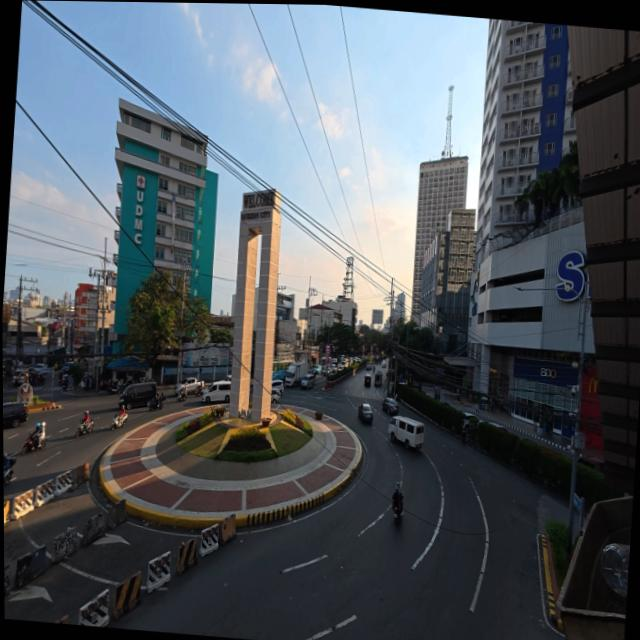Jeepneys: (373, 370, 383, 387)
car: (578, 456, 604, 472), (382, 398, 398, 415), (358, 404, 373, 422), (488, 421, 510, 433), (13, 370, 28, 385), (463, 412, 482, 423), (271, 388, 282, 403), (62, 362, 73, 373), (33, 364, 46, 372), (314, 365, 323, 376), (364, 374, 372, 386), (336, 363, 344, 371), (330, 366, 337, 374), (367, 363, 372, 370), (382, 361, 386, 368)
motorcycle: (22, 435, 46, 454), (75, 419, 93, 438), (393, 494, 403, 524), (3, 459, 14, 485), (146, 396, 165, 411), (112, 413, 128, 429), (194, 385, 203, 397), (108, 386, 120, 395), (177, 393, 187, 403)
trucks: (285, 362, 310, 386), (174, 377, 203, 395)
vans: (388, 416, 424, 448), (119, 382, 157, 410), (203, 380, 231, 403), (3, 402, 28, 427), (301, 375, 316, 390), (272, 380, 284, 392)
